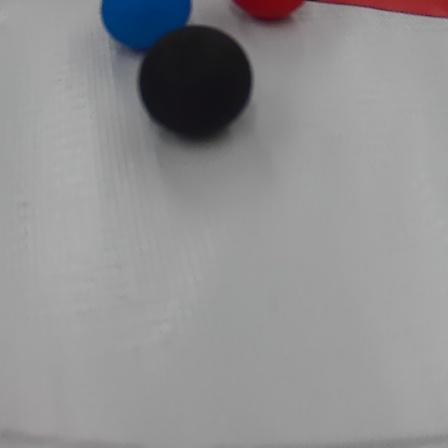black: (136, 34, 248, 139)
blue: (101, 0, 191, 50)
red: (232, 0, 300, 25)
